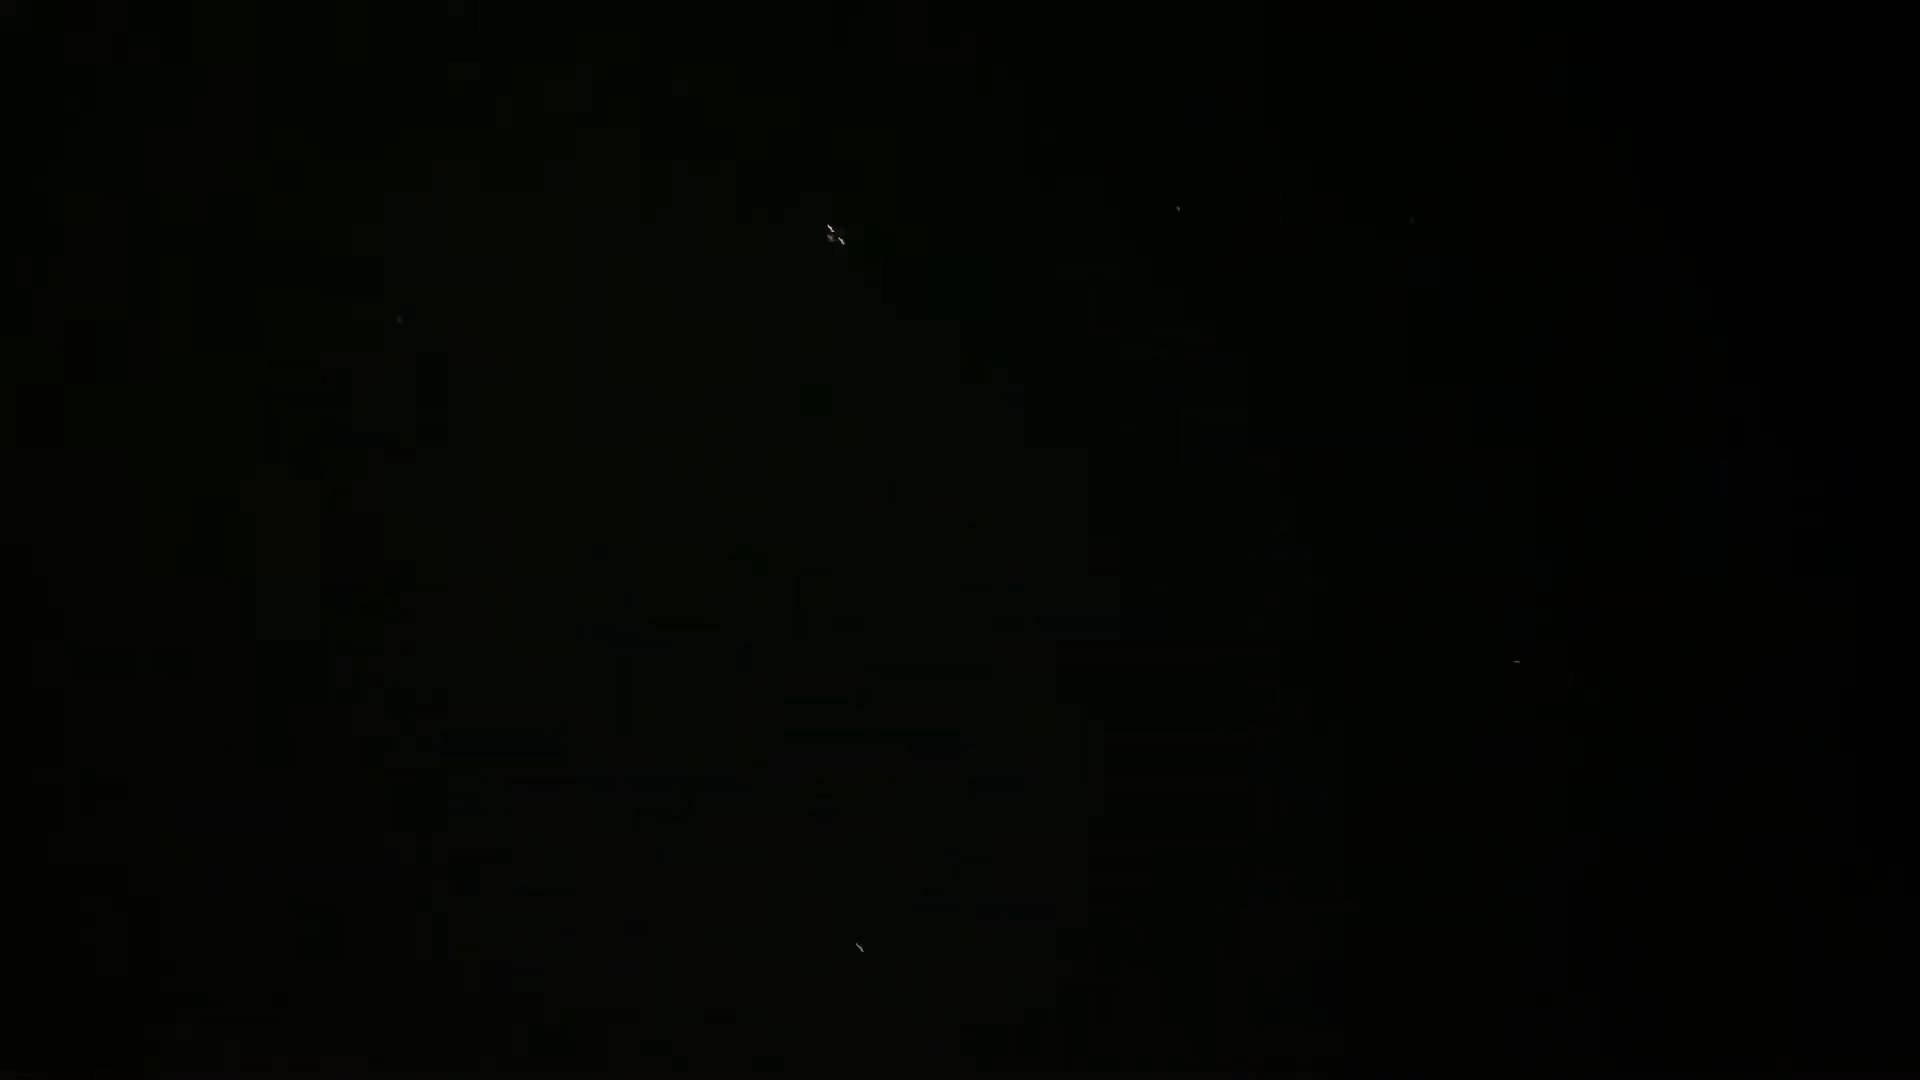Plane: (804, 214, 866, 256)
